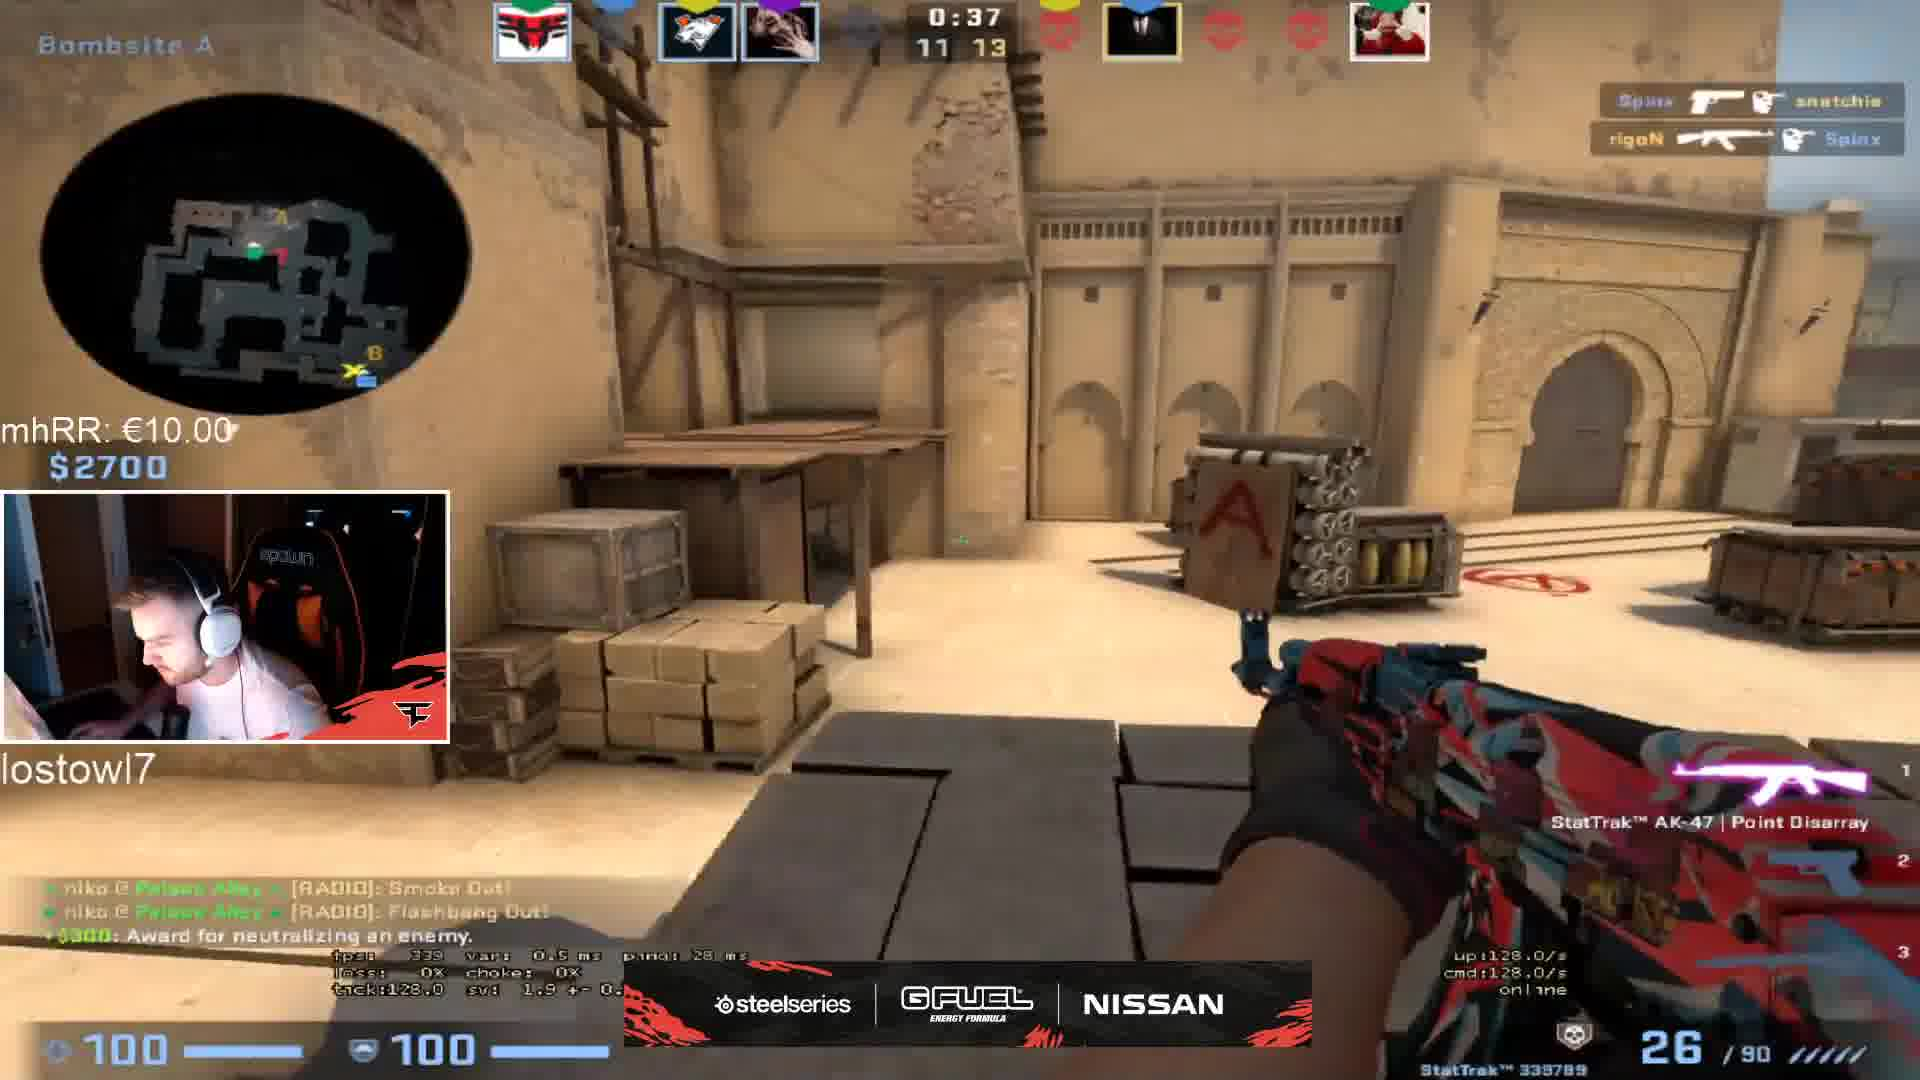enemy: (804, 524, 865, 593)
